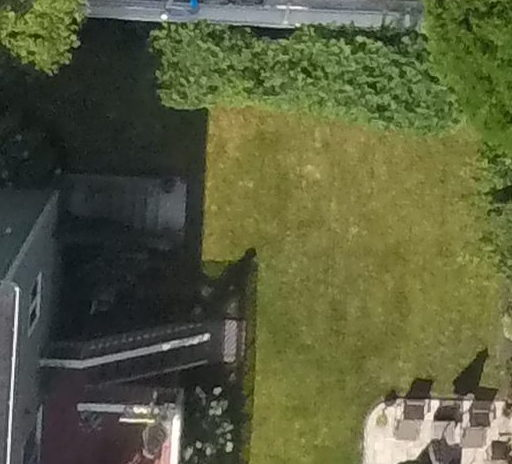chair: (396, 386, 434, 429), (462, 417, 491, 458)
